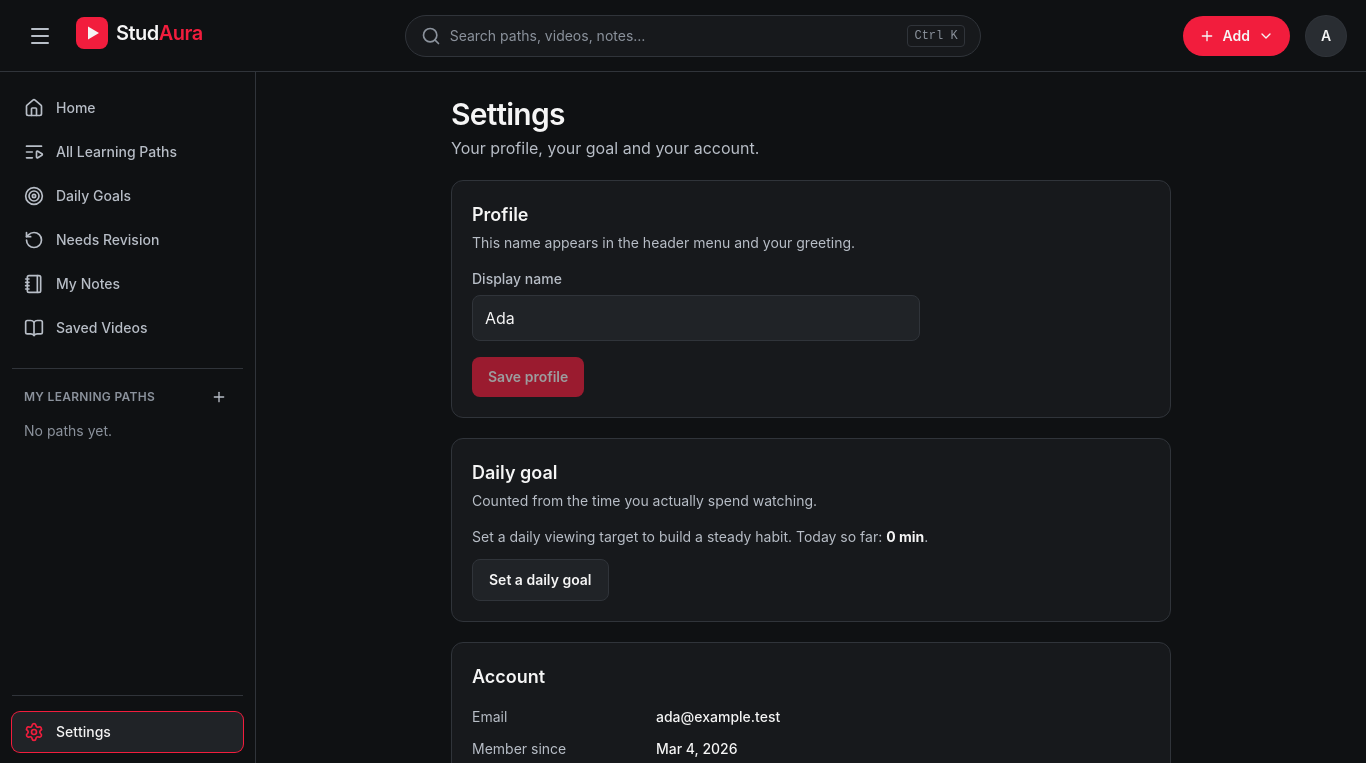
Test: settings › says so when saving fails and keeps what was typed
This screenshot has width=1366, height=763.
Type "x" into the field labelled "Display name" at (696, 318), box [472,295,920,341]
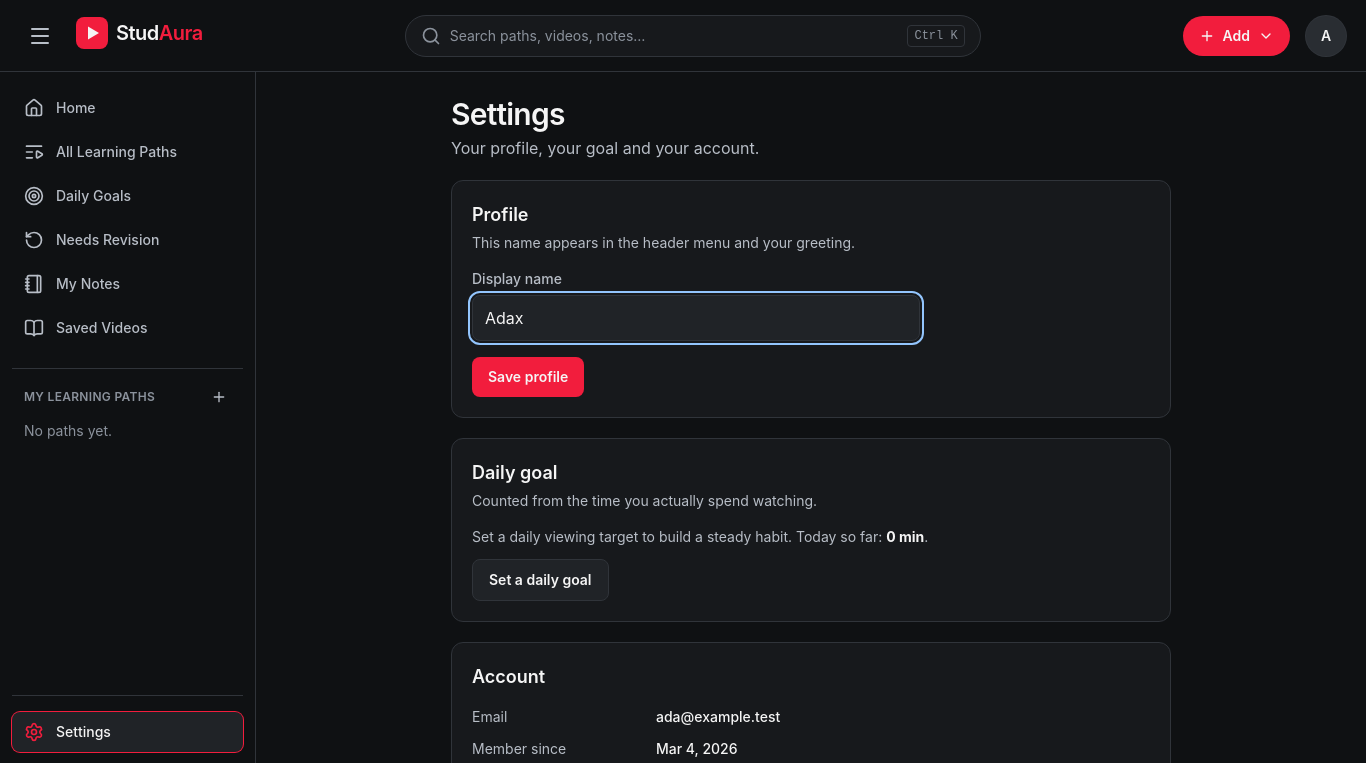
Click the button "Save profile" at (528, 377), box [472,357,584,397]
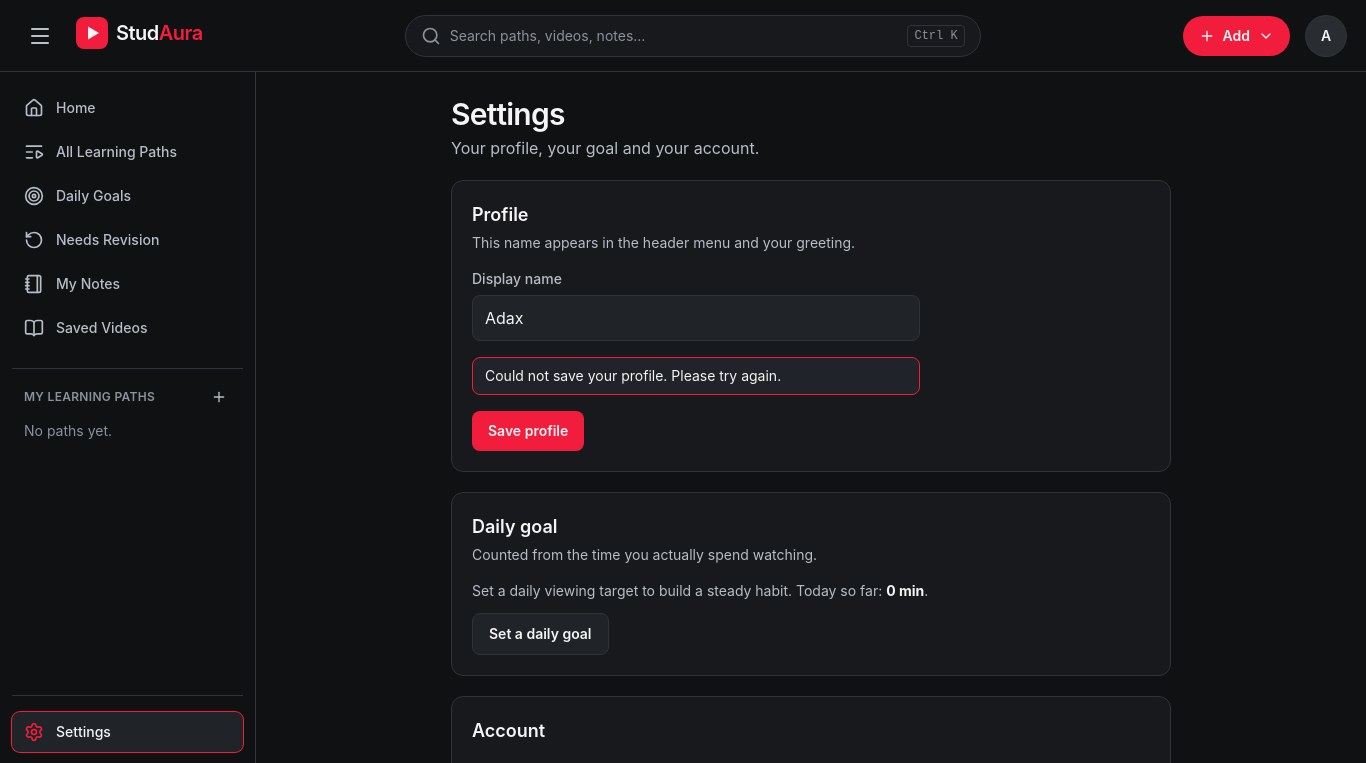
Expected: the field labelled "Display name" holds "Adax", [472,295,920,341]
Expected: the message shows "Could not save your profile", [485,367,781,384]
